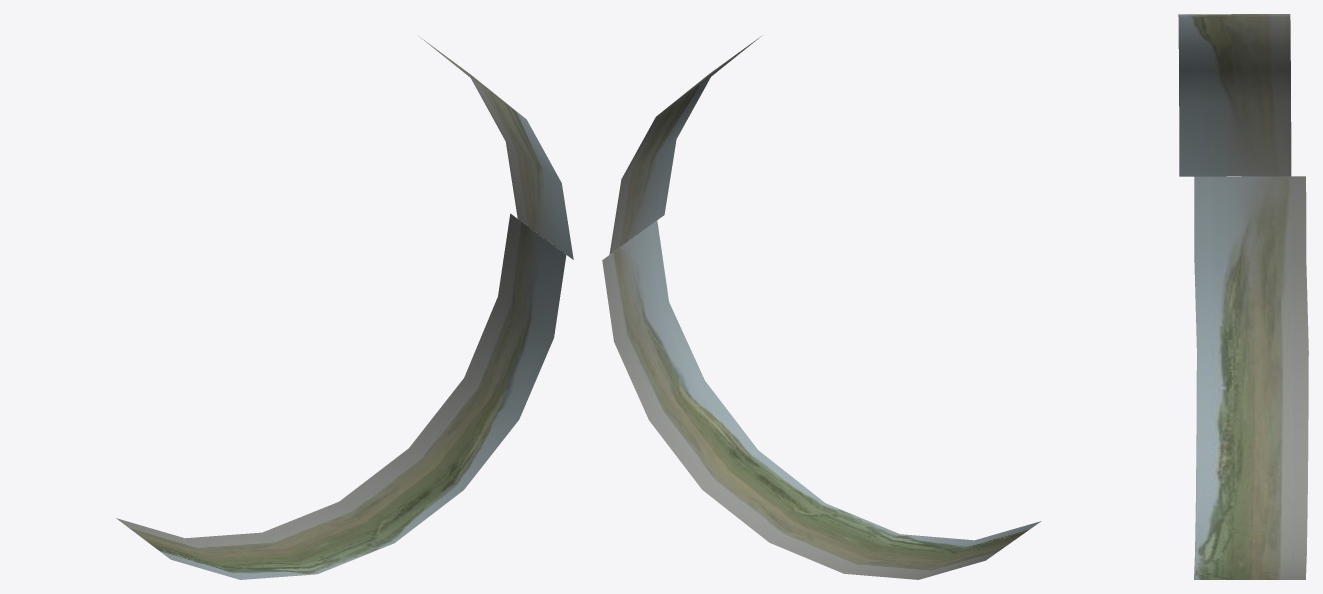
Rendered from backdrop_rhine_card.glb.
3 views of the same model, side by side, from view 1: azimuth 30°, elevation 25°; view 2: azimuth 150°, elevation 25°; view 3: azimuth 270°, elevation 25° (orthographic). The views are drawn at different scales.
Bounding box in the file's own units: 40008 × 40028 × 9172.
Materials: 2 (2 with a texture image).
